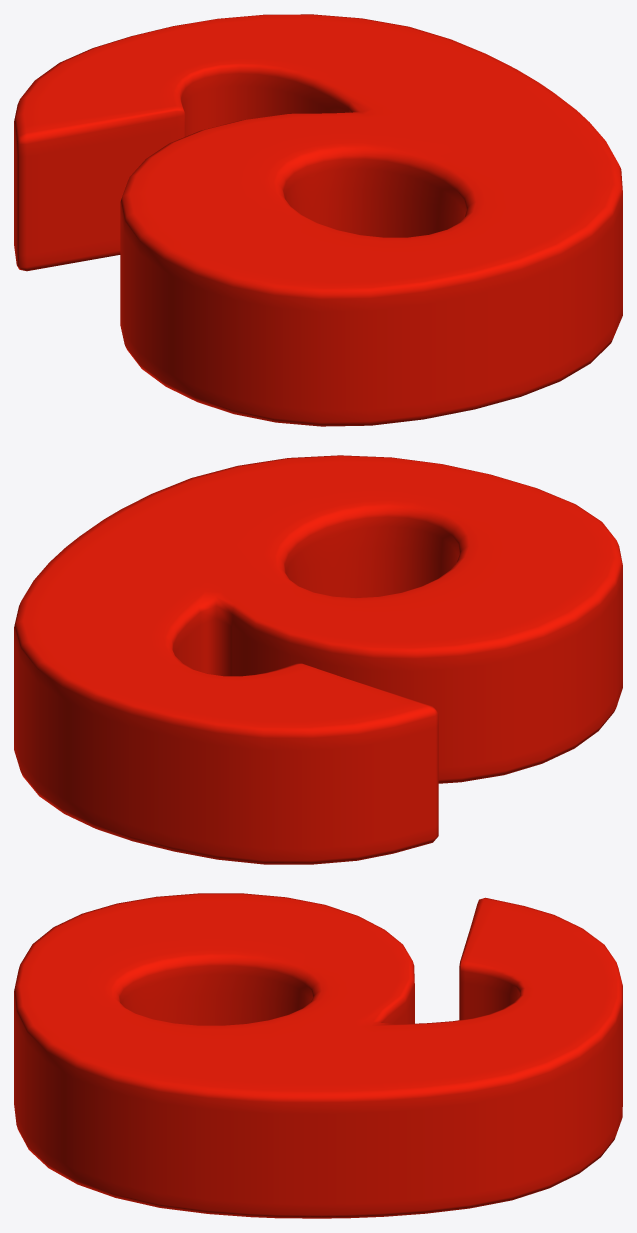
3 views of the same model, one above another, from view 1: azimuth 30°, elevation 25°; view 2: azimuth 150°, elevation 25°; view 3: azimuth 270°, elevation 25° (orthographic). The views are drawn at different scales.
Visible parts, largest first — view 1: Nine_lambert1_0; view 2: Nine_lambert1_0; view 3: Nine_lambert1_0.
Boxes of the visible parts, x1,y1,x2,y2 form: Nine_lambert1_0: [14, 14, 622, 426]; Nine_lambert1_0: [14, 455, 622, 864]; Nine_lambert1_0: [14, 893, 622, 1218].
Size of the model in its own units: 1.75 by 0.4975 by 2.19.
